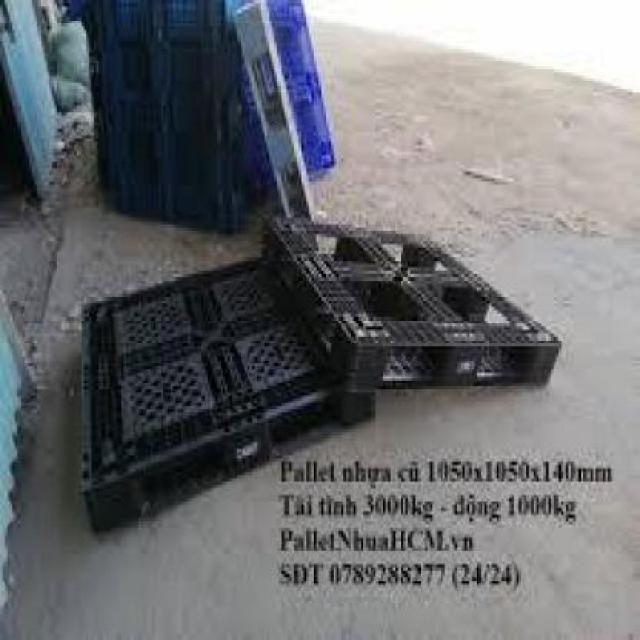pallet: (61, 265, 377, 550), (67, 1, 344, 227), (256, 203, 572, 391)
